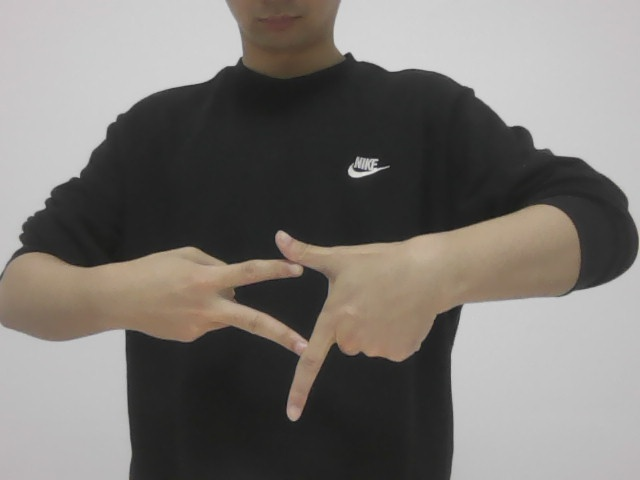introduce: (125, 223, 440, 430)
